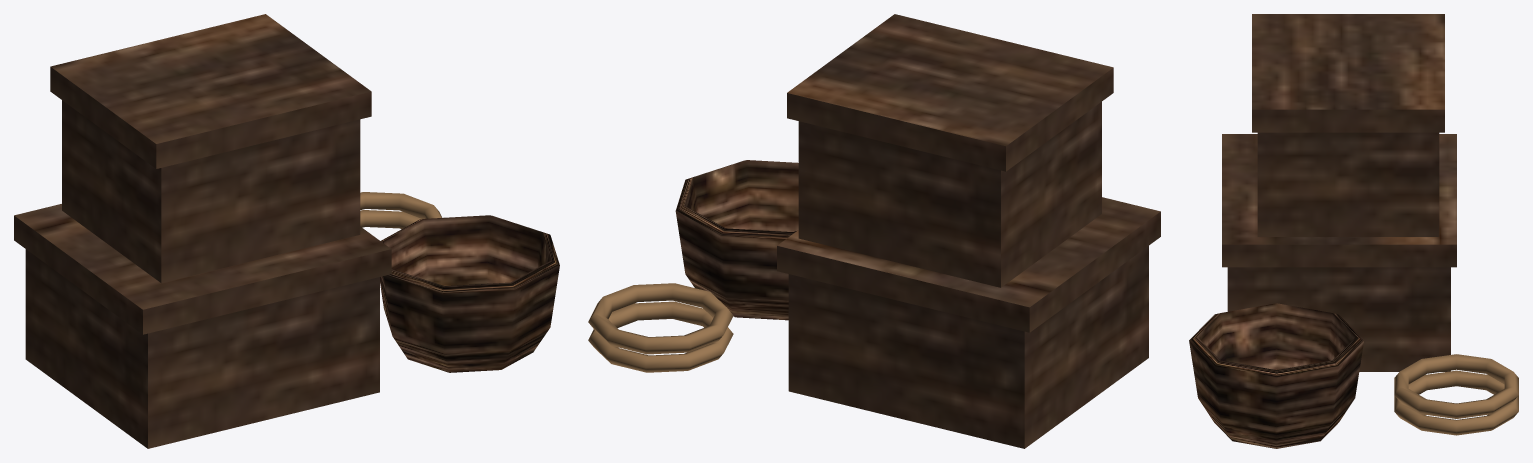
Rendered from periodCargo.glb.
3 renders of one model, left to right at view 1: azimuth 30°, elevation 25°; view 2: azimuth 150°, elevation 25°; view 3: azimuth 270°, elevation 25°, orthographic. The views are drawn at different scales.
Visible parts, largest first — view 1: part_2, part_0, part_1; view 2: part_2, part_0, part_1; view 3: part_2, part_0, part_1.
Part boxes in pixels (<box>): part_2: <box>14,14,391,448</box>; part_0: <box>380,215,559,372</box>; part_1: <box>360,192,442,229</box>; part_2: <box>777,14,1160,448</box>; part_0: <box>675,160,798,320</box>; part_1: <box>588,283,733,372</box>; part_2: <box>1222,14,1456,371</box>; part_0: <box>1189,303,1363,448</box>; part_1: <box>1394,354,1518,435</box>.
Size of the model in its own units: 0.6601 by 0.418 by 0.473.
Materials: 3 (2 with a texture image).
